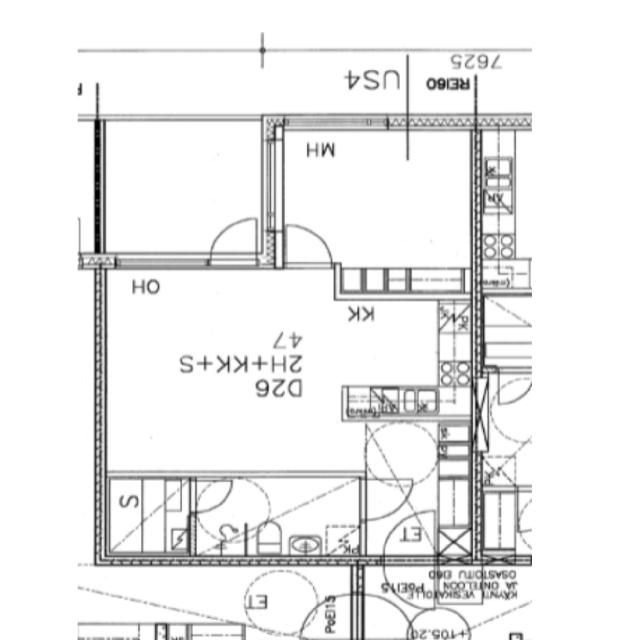door: (354, 444, 420, 526), (200, 210, 262, 267), (375, 516, 438, 568), (278, 220, 338, 274), (357, 588, 412, 640), (406, 604, 471, 639), (187, 474, 237, 517)
window: (252, 136, 291, 237), (100, 106, 264, 129), (110, 247, 215, 276), (281, 112, 399, 137)
zone: (97, 262, 436, 470), (280, 124, 479, 289), (100, 118, 262, 262), (182, 471, 360, 563), (101, 476, 189, 562)
